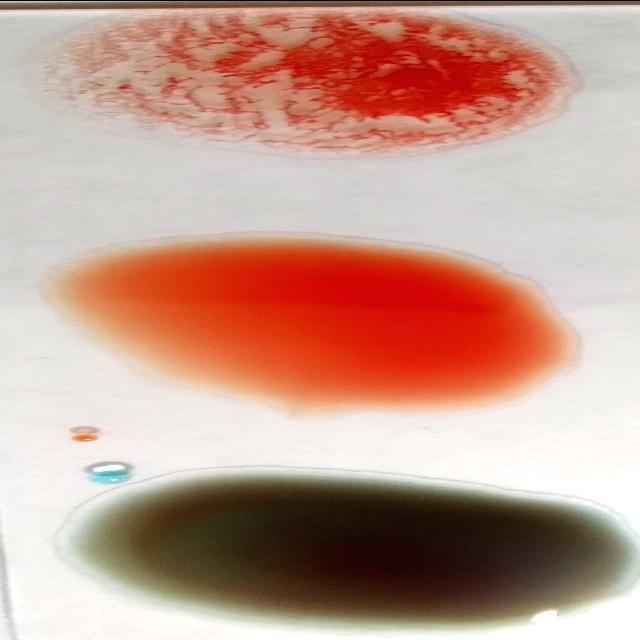D: (74, 11, 572, 147)
